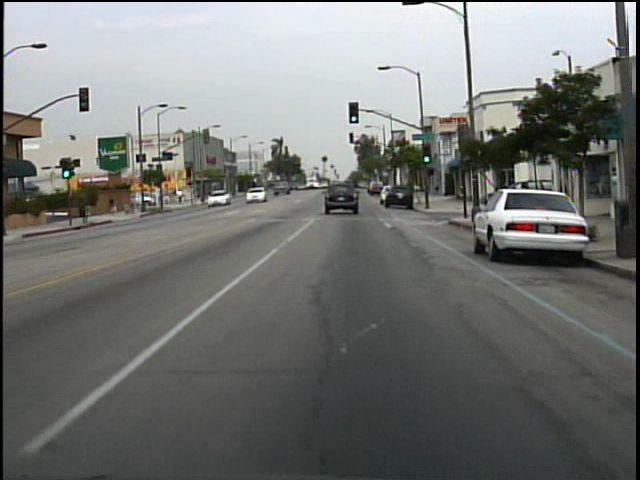person: (491, 174, 515, 228), (106, 191, 125, 220), (178, 186, 187, 205)
